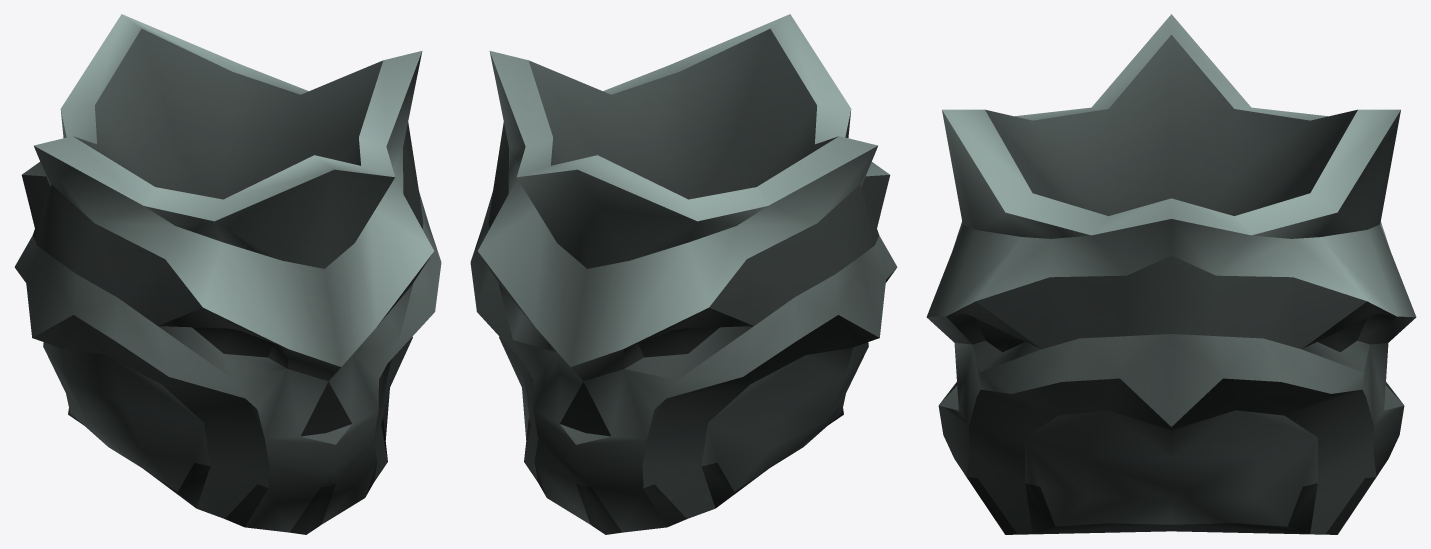
The model's file is orc_head_lantern_disabled.fbx.
3 renders of one model, left to right at view 1: azimuth 30°, elevation 25°; view 2: azimuth 150°, elevation 25°; view 3: azimuth 270°, elevation 25°, orthographic. The views are drawn at different scales.
Visible parts, largest first — view 1: orc_head_lantern_disabled; view 2: orc_head_lantern_disabled; view 3: orc_head_lantern_disabled.
Part boxes in pixels (x1,y1,x2,y2): orc_head_lantern_disabled: (14,14,441,534); orc_head_lantern_disabled: (470,14,897,534); orc_head_lantern_disabled: (926,14,1416,534).
Size of the model in its own units: 215 by 202 by 215.
